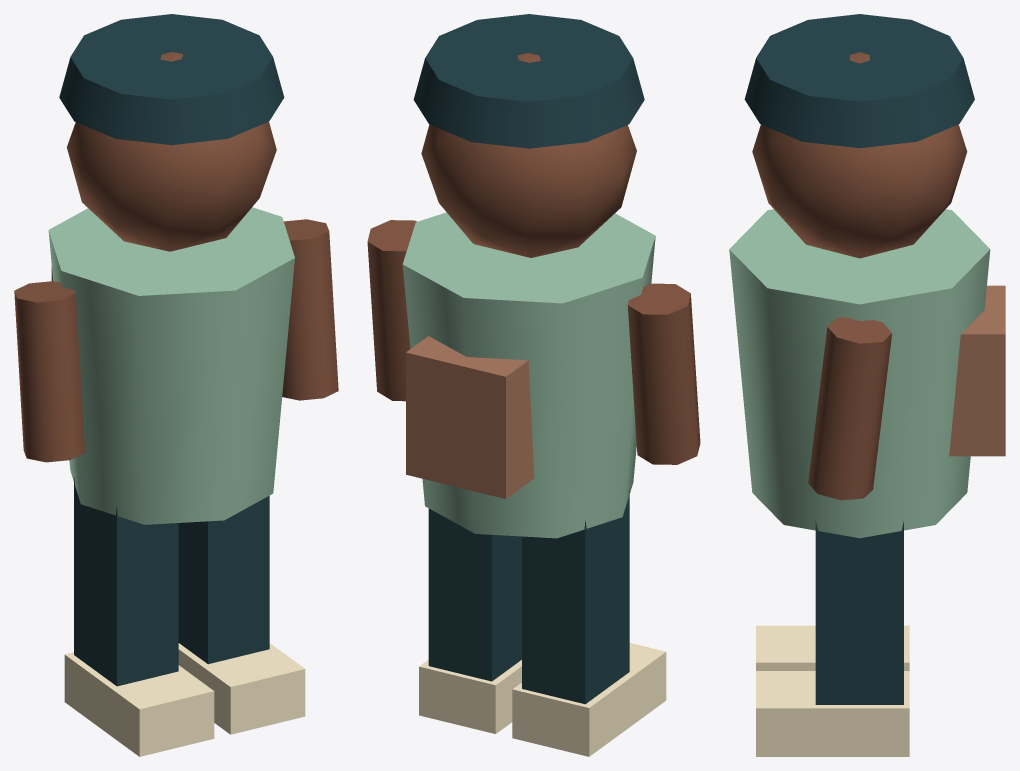
The model's file is guest_d.glb.
3 renders of one model, left to right at view 1: azimuth 30°, elevation 25°; view 2: azimuth 150°, elevation 25°; view 3: azimuth 270°, elevation 25°, orthographic. The views are drawn at different scales.
Parts seen in each view (by area): view 1: guest_d; view 2: guest_d; view 3: guest_d.
Part boxes in pixels (box(x1,y1,x2,y2)): guest_d: box(14, 14, 338, 756); guest_d: box(367, 14, 700, 756); guest_d: box(729, 14, 1005, 756).
Bounding box in the file's own units: 0.95 × 1.9 × 0.72.
